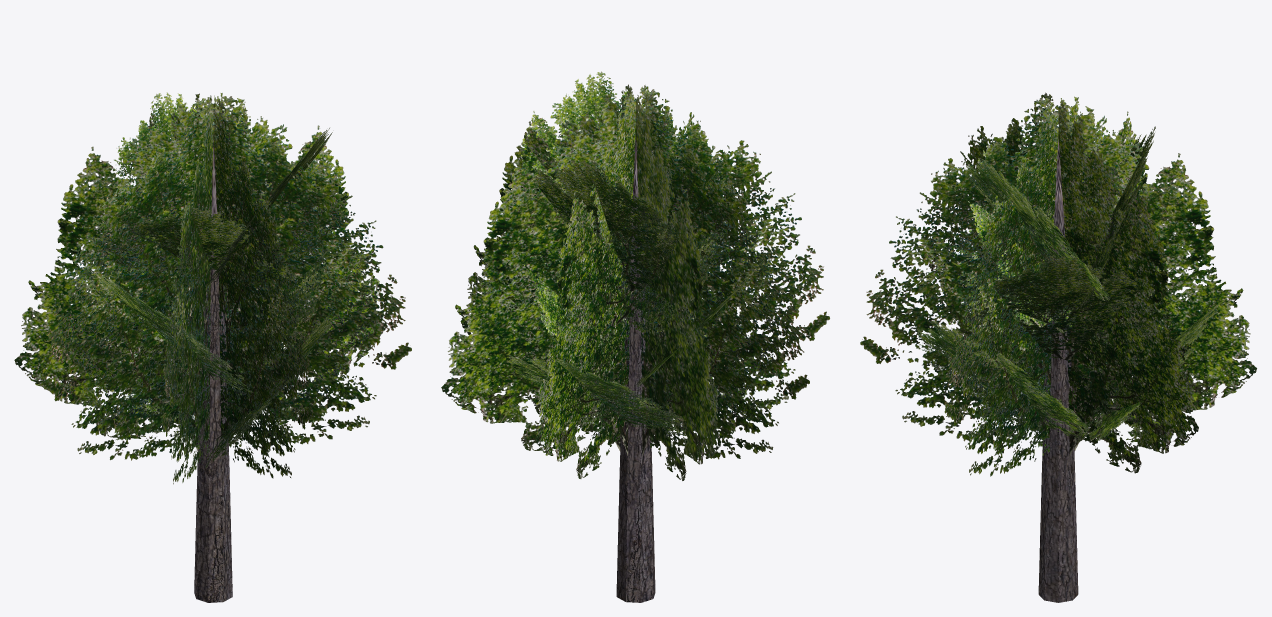
Rendered from tree1.fbx.
3 renders of one model, left to right at view 1: azimuth 30°, elevation 25°; view 2: azimuth 150°, elevation 25°; view 3: azimuth 270°, elevation 25°, orthographic.
Parts seen in each view (by area): view 1: pPlane4, pPlane1, pPlane2, pPlane3, pCylinder1, pPlane7, pPlane9, pPlane10, pPlane6, pPlane8, pPlane11; view 2: pPlane3, pPlane1, pPlane2, pPlane4, pCylinder1, pPlane6, pPlane5, pPlane11, pPlane7, pPlane9, pPlane10; view 3: pPlane2, pPlane3, pPlane4, pPlane9, pCylinder1, pPlane8, pPlane11, pPlane5, pPlane6, pPlane7.
Part boxes in pixels (x1,y1,x2,y2): pPlane4: (14, 96, 411, 451); pPlane1: (41, 96, 385, 460); pPlane2: (136, 93, 312, 478); pPlane3: (162, 93, 261, 484); pCylinder1: (194, 133, 232, 602); pPlane7: (97, 207, 296, 293); pPlane9: (225, 177, 333, 364); pPlane10: (82, 274, 253, 392); pPlane6: (102, 92, 266, 291); pPlane8: (205, 315, 334, 468); pPlane11: (205, 128, 332, 285); pPlane3: (441, 89, 829, 451); pPlane1: (461, 92, 809, 459); pPlane2: (535, 85, 731, 478); pPlane4: (587, 84, 720, 480); pCylinder1: (616, 133, 655, 602); pPlane6: (532, 160, 705, 298); pPlane5: (508, 355, 693, 435); pPlane11: (514, 71, 684, 267); pPlane7: (611, 149, 726, 333); pPlane9: (520, 200, 621, 349); pPlane10: (633, 248, 777, 387); pPlane2: (860, 98, 1256, 450); pPlane3: (919, 92, 1198, 473); pPlane4: (944, 96, 1167, 476); pPlane9: (959, 255, 1158, 360); pCylinder1: (1038, 135, 1078, 602); pPlane8: (918, 320, 1089, 438); pPlane11: (964, 159, 1110, 300); pPlane5: (1073, 303, 1220, 442); pPlane6: (1073, 126, 1155, 309); pPlane7: (968, 144, 1073, 332).
Size of the model in its own units: 10 by 13.76 by 10.
